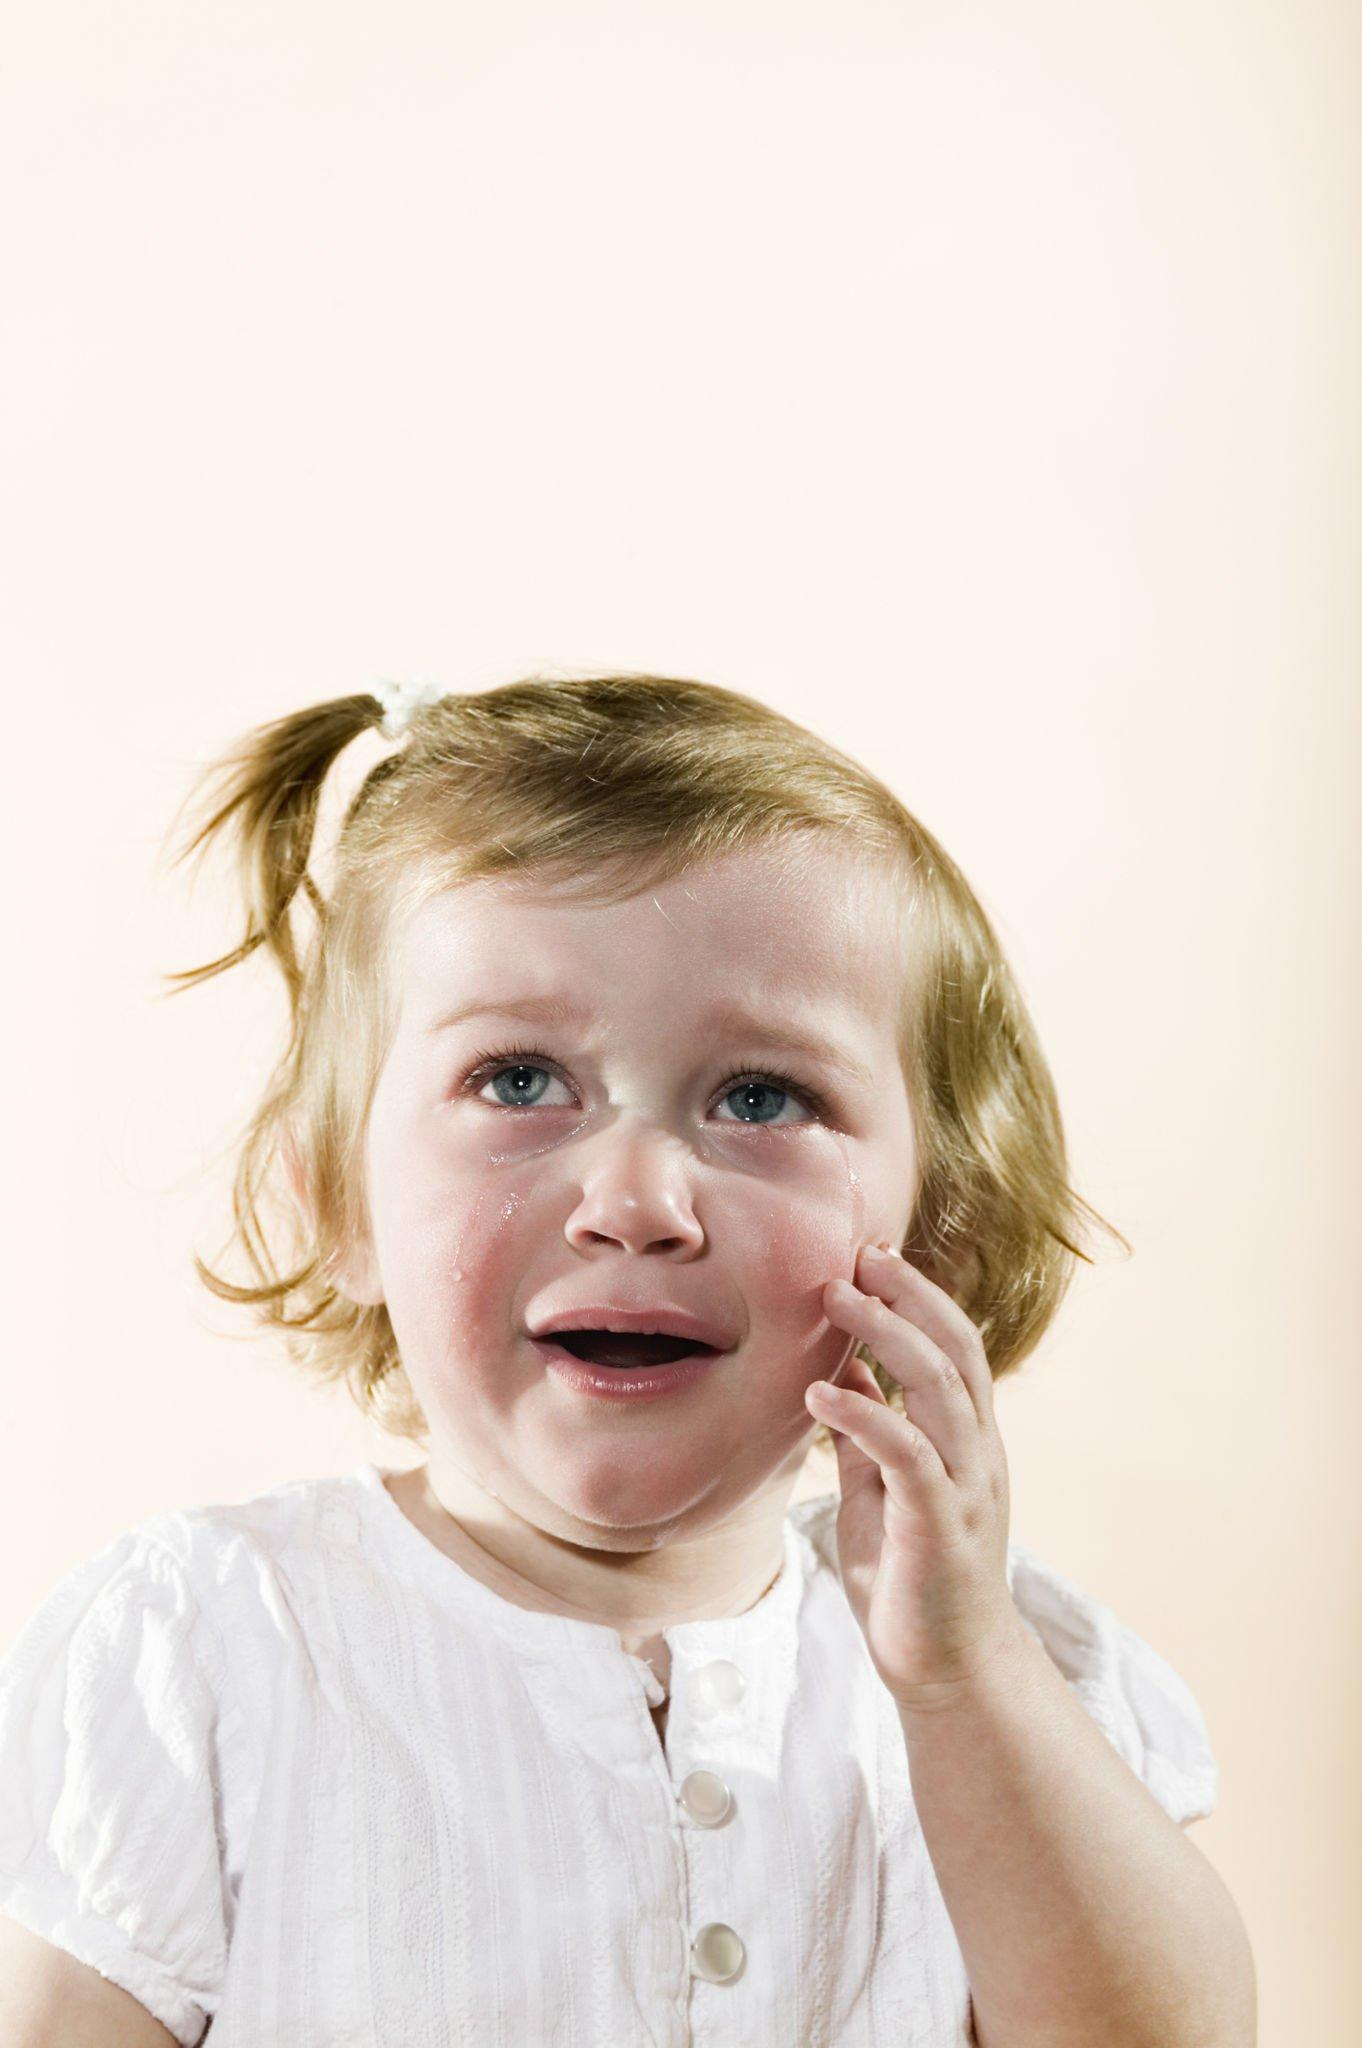Healthy: (322, 697, 862, 1539)
